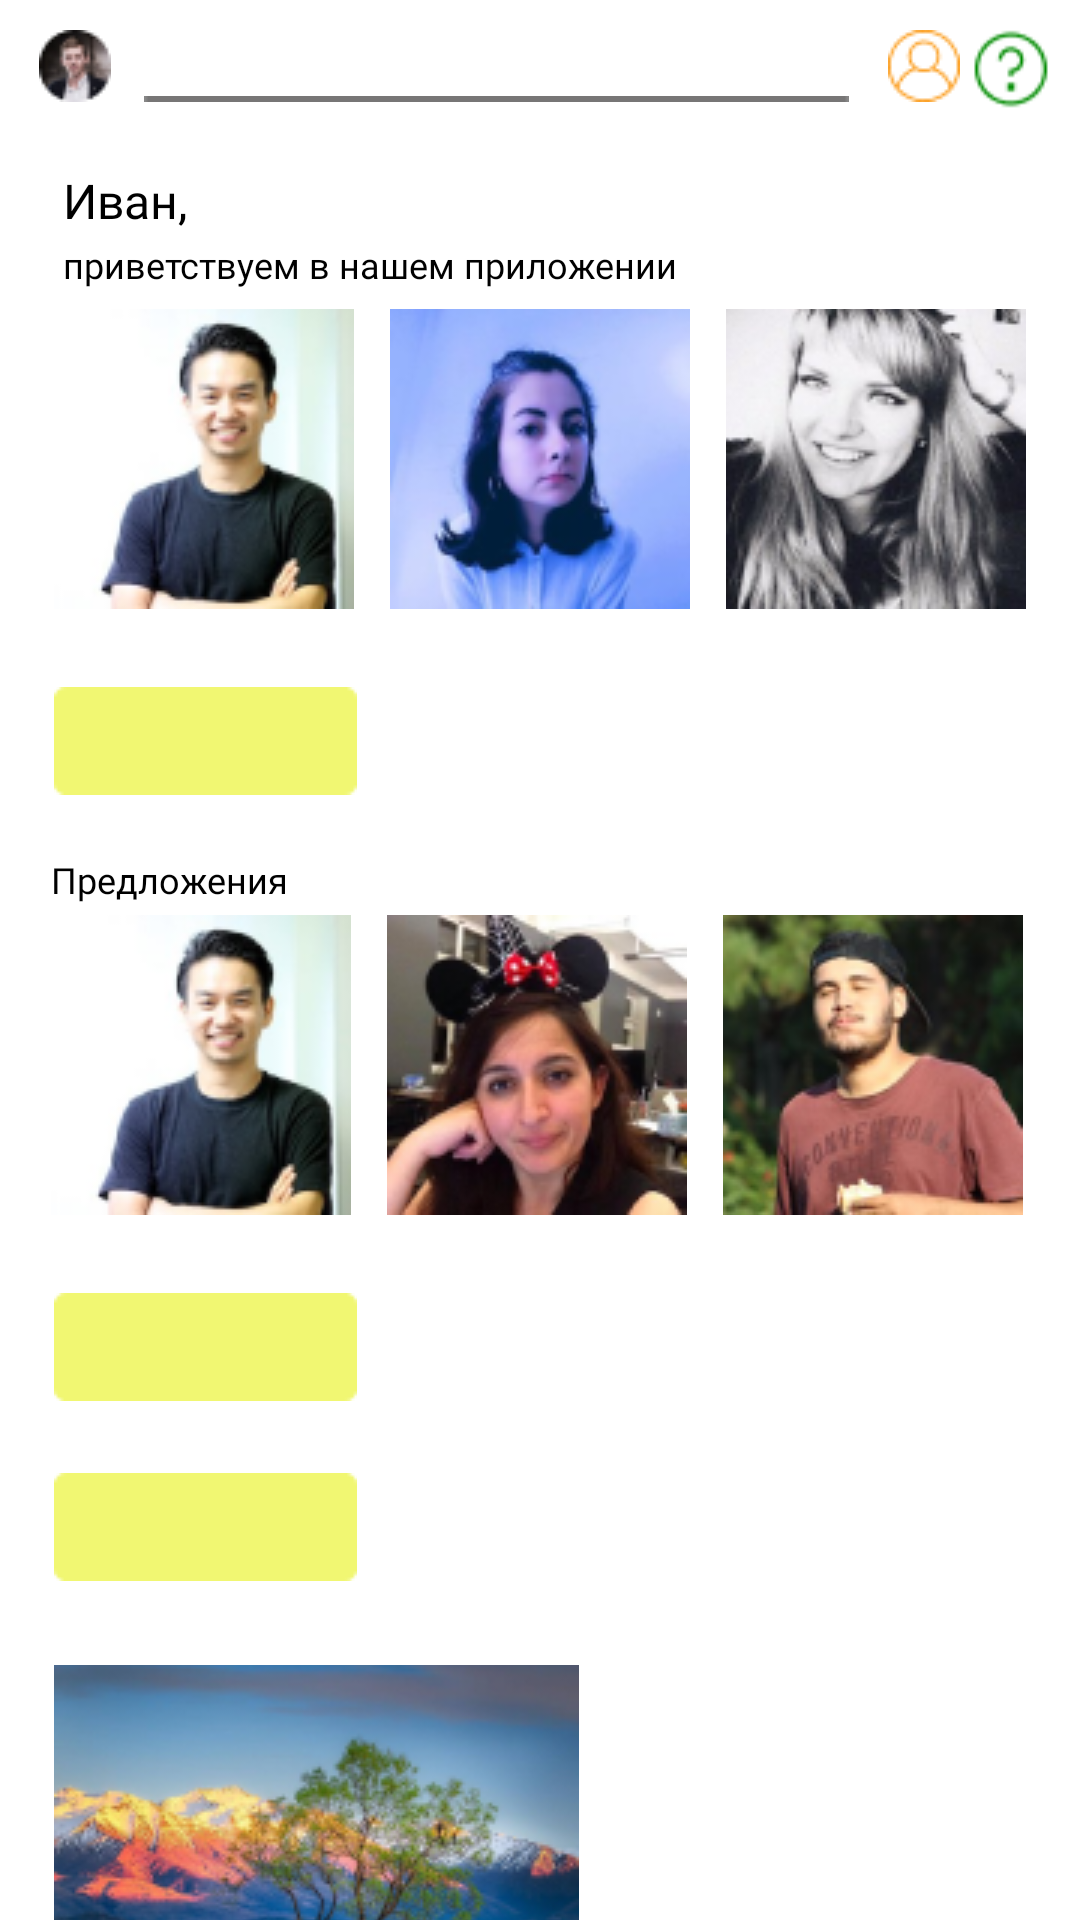

Named icons in this screenshot (1080px×1920px) and their centers, point (x, y):
free user: point (924, 66)
premium question sign: point (1011, 69)
